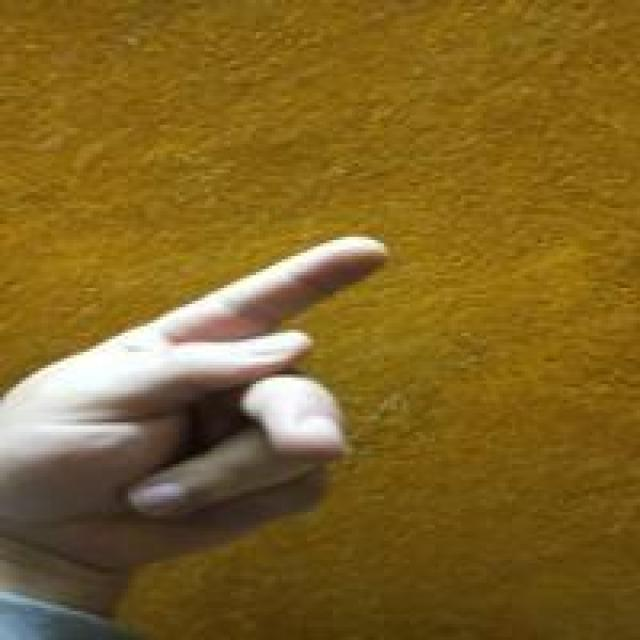K: (0, 212, 416, 578)
